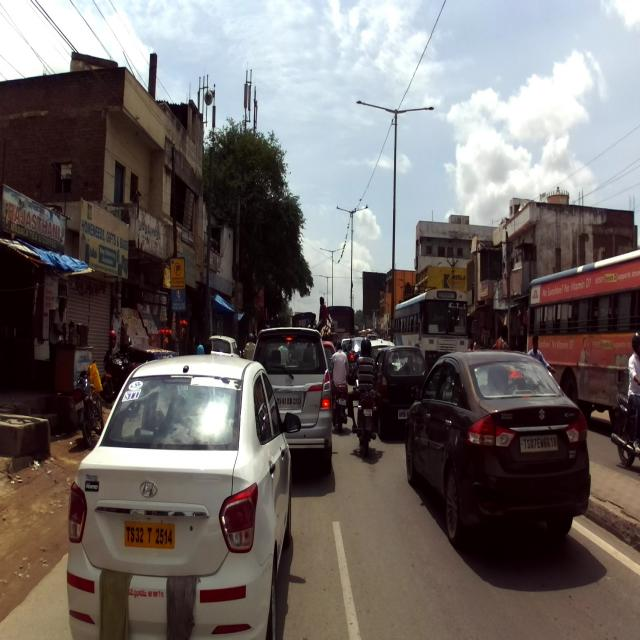bus: (525, 247, 639, 427)
car: (66, 352, 300, 638), (404, 349, 591, 545), (253, 326, 334, 480)
motorcycle: (71, 359, 104, 448), (610, 379, 639, 465), (349, 370, 377, 455)
